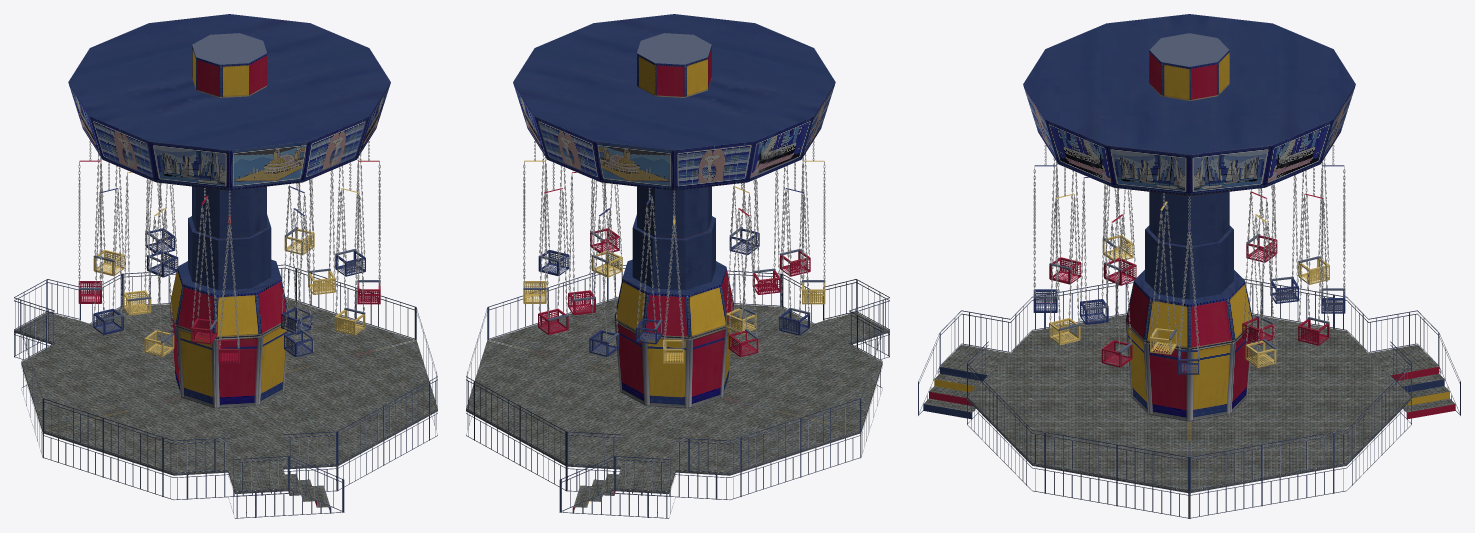
Rendered from SwingCarousel01.fbx.
The picture shows the model from 3 angles, left to right: view 1: azimuth 30°, elevation 25°; view 2: azimuth 150°, elevation 25°; view 3: azimuth 270°, elevation 25°; orthographic projection. The views are drawn at different scales.
Parts seen in each view (by area): view 1: SwingCarousel01.Platform, SwingCarousel01.Upper, SwingCarousel01.Base, SwingCarousel01.Swing.003, SwingCarousel01.Swing.011, SwingCarousel01.Swing.002, SwingCarousel01.Swing, SwingCarousel01.Swing.015, SwingCarousel01.Swing.017, SwingCarousel01.Swing.023, SwingCarousel01.Swing.013, SwingCarousel01.Swing.005 (+7 smaller); view 2: SwingCarousel01.Platform, SwingCarousel01.Upper, SwingCarousel01.Base, SwingCarousel01.Swing.007, SwingCarousel01.Swing.003, SwingCarousel01.Swing.006, SwingCarousel01.Swing.004, SwingCarousel01.Swing.019, SwingCarousel01.Swing.021, SwingCarousel01.Swing.015, SwingCarousel01.Swing.017, SwingCarousel01.Swing.009 (+7 smaller); view 3: SwingCarousel01.Platform, SwingCarousel01.Upper, SwingCarousel01.Base, SwingCarousel01.Swing.011, SwingCarousel01.Swing.008, SwingCarousel01.Swing.010, SwingCarousel01.Swing.007, SwingCarousel01.Swing.023, SwingCarousel01.Swing.013, SwingCarousel01.Swing.019, SwingCarousel01.Swing.021, SwingCarousel01.Swing.001 (+7 smaller).
Part boxes in pixels (<box>): SwingCarousel01.Platform: <box>14,259,437,518</box>; SwingCarousel01.Upper: <box>68,14,390,190</box>; SwingCarousel01.Base: <box>188,186,271,290</box>; SwingCarousel01.Swing.003: <box>93,162,123,334</box>; SwingCarousel01.Swing.011: <box>334,163,365,335</box>; SwingCarousel01.Swing.002: <box>144,183,174,356</box>; SwingCarousel01.Swing: <box>284,183,313,356</box>; SwingCarousel01.Swing.015: <box>191,188,217,344</box>; SwingCarousel01.Swing.017: <box>123,172,151,315</box>; SwingCarousel01.Swing.023: <box>308,170,335,294</box>; SwingCarousel01.Swing.013: <box>281,183,312,334</box>; SwingCarousel01.Swing.005: <box>93,153,124,276</box>; SwingCarousel01.Platform: <box>466,259,889,518</box>; SwingCarousel01.Upper: <box>513,14,835,190</box>; SwingCarousel01.Base: <box>632,186,715,290</box>; SwingCarousel01.Swing.007: <box>538,162,568,334</box>; SwingCarousel01.Swing.003: <box>779,162,810,335</box>; SwingCarousel01.Swing.006: <box>589,183,619,356</box>; SwingCarousel01.Swing.004: <box>728,183,758,356</box>; SwingCarousel01.Swing.019: <box>636,188,662,344</box>; SwingCarousel01.Swing.021: <box>568,172,595,315</box>; SwingCarousel01.Swing.015: <box>752,170,780,294</box>; SwingCarousel01.Swing.017: <box>725,183,756,334</box>; SwingCarousel01.Swing.009: <box>538,153,569,276</box>; SwingCarousel01.Platform: <box>918,270,1460,518</box>; SwingCarousel01.Upper: <box>1023,14,1355,196</box>; SwingCarousel01.Base: <box>1145,192,1233,299</box>; SwingCarousel01.Swing.011: <box>1049,167,1080,345</box>; SwingCarousel01.Swing.008: <box>1245,188,1276,367</box>; SwingCarousel01.Swing.010: <box>1101,188,1132,367</box>; SwingCarousel01.Swing.007: <box>1298,167,1329,345</box>; SwingCarousel01.Swing.023: <box>1150,193,1176,354</box>; SwingCarousel01.Swing.013: <box>1080,177,1108,324</box>; SwingCarousel01.Swing.019: <box>1270,175,1298,303</box>; SwingCarousel01.Swing.021: <box>1242,188,1274,344</box>; SwingCarousel01.Swing.001: <box>1049,158,1080,284</box>.
Bounding box in the file's own units: 1764 × 1640 × 2152.
